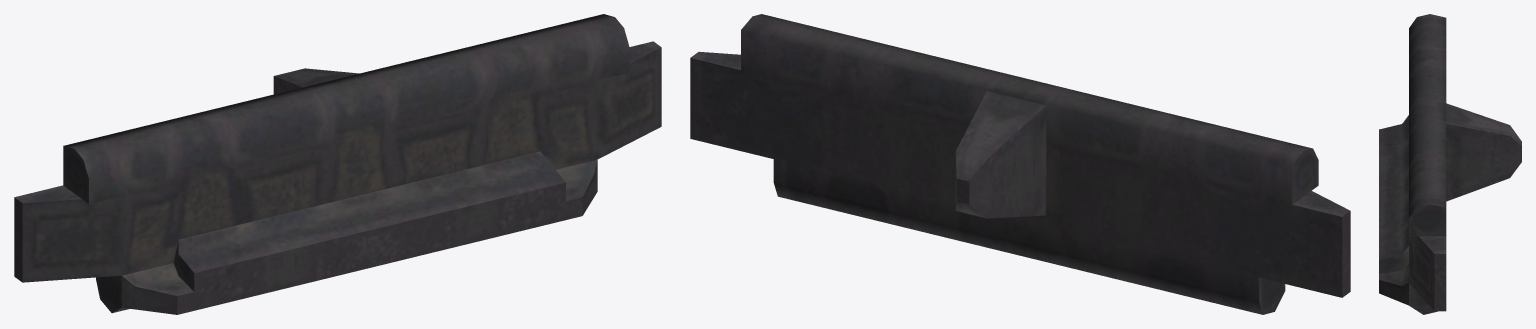
Rendered from T40_track.glb.
3 renders of one model, left to right at view 1: azimuth 30°, elevation 25°; view 2: azimuth 150°, elevation 25°; view 3: azimuth 270°, elevation 25°, orthographic. The views are drawn at different scales.
Visible parts, largest first — view 1: set_0_group_0; view 2: set_0_group_0; view 3: set_0_group_0.
Boxes of the visible parts, bbox=[...] form: set_0_group_0: bbox=[14, 14, 661, 314]; set_0_group_0: bbox=[690, 14, 1350, 314]; set_0_group_0: bbox=[1379, 14, 1521, 314].
Bounding box in the file's own units: 0.7 × 0.1769 × 0.1879.
1 material, 1 textured.
